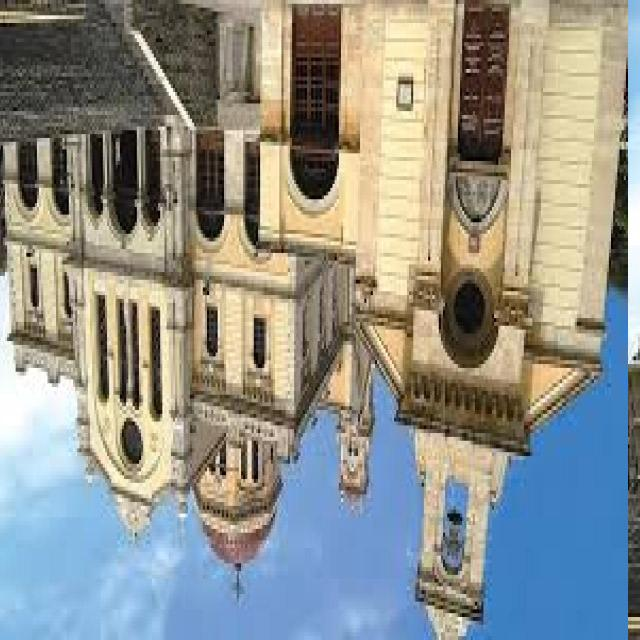Agios Minas: (1, 1, 629, 640)
